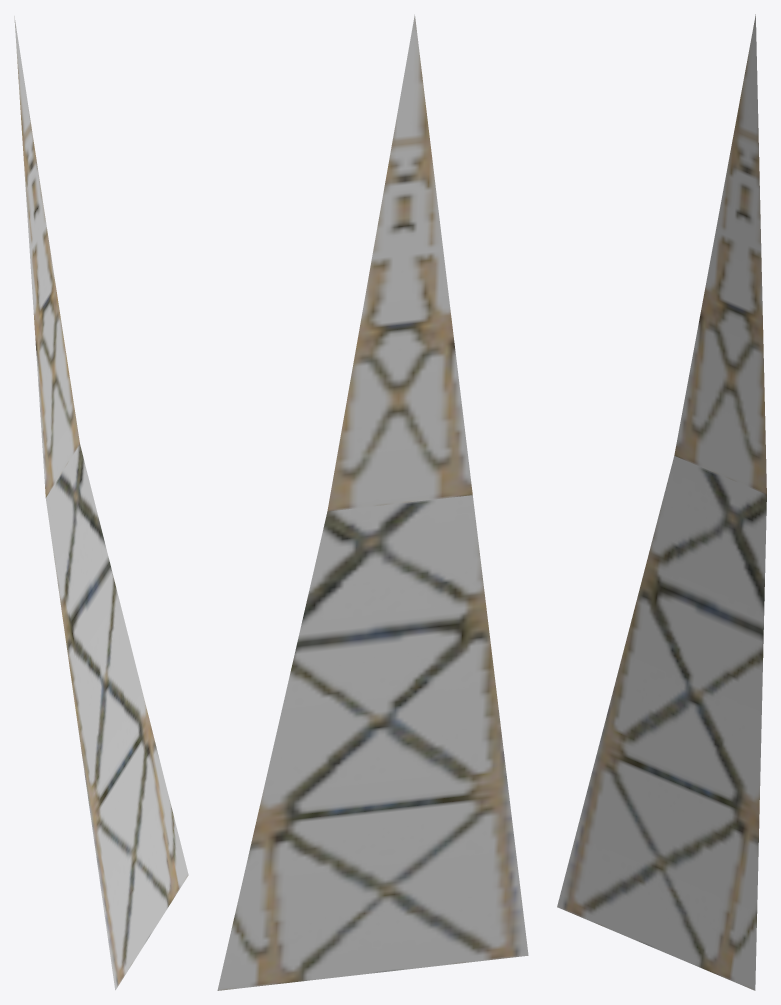
Rendered from 埃菲尔铁塔34.dae.
3 views of the same model, side by side, from view 1: azimuth 30°, elevation 25°; view 2: azimuth 150°, elevation 25°; view 3: azimuth 270°, elevation 25° (orthographic). The views are drawn at different scales.
Parts seen in each view (by area): view 1: SketchUp; view 2: SketchUp; view 3: SketchUp.
Boxes of the visible parts, bbox=[...] form: SketchUp: bbox=[14, 16, 188, 990]; SketchUp: bbox=[217, 14, 528, 990]; SketchUp: bbox=[557, 14, 766, 990].
Bounding box in the file's own units: 407 × 407 × 1909.
